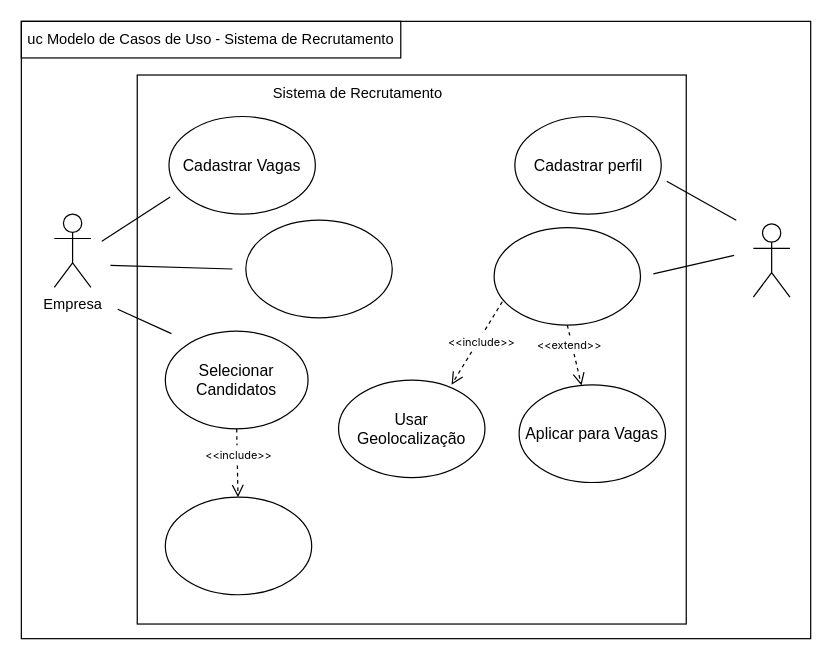
Image size: 832x660. Some labels were removed from this diagram. Here are the shapes that lost their labels. From the top down, the box of each, then its label:
(245, 219, 392, 318): Gerenciar Vagas
(493, 226, 640, 325): Buscar Vagas
(752, 223, 790, 297): Candidato
(164, 496, 312, 595): Classificar candidatos (AI)
